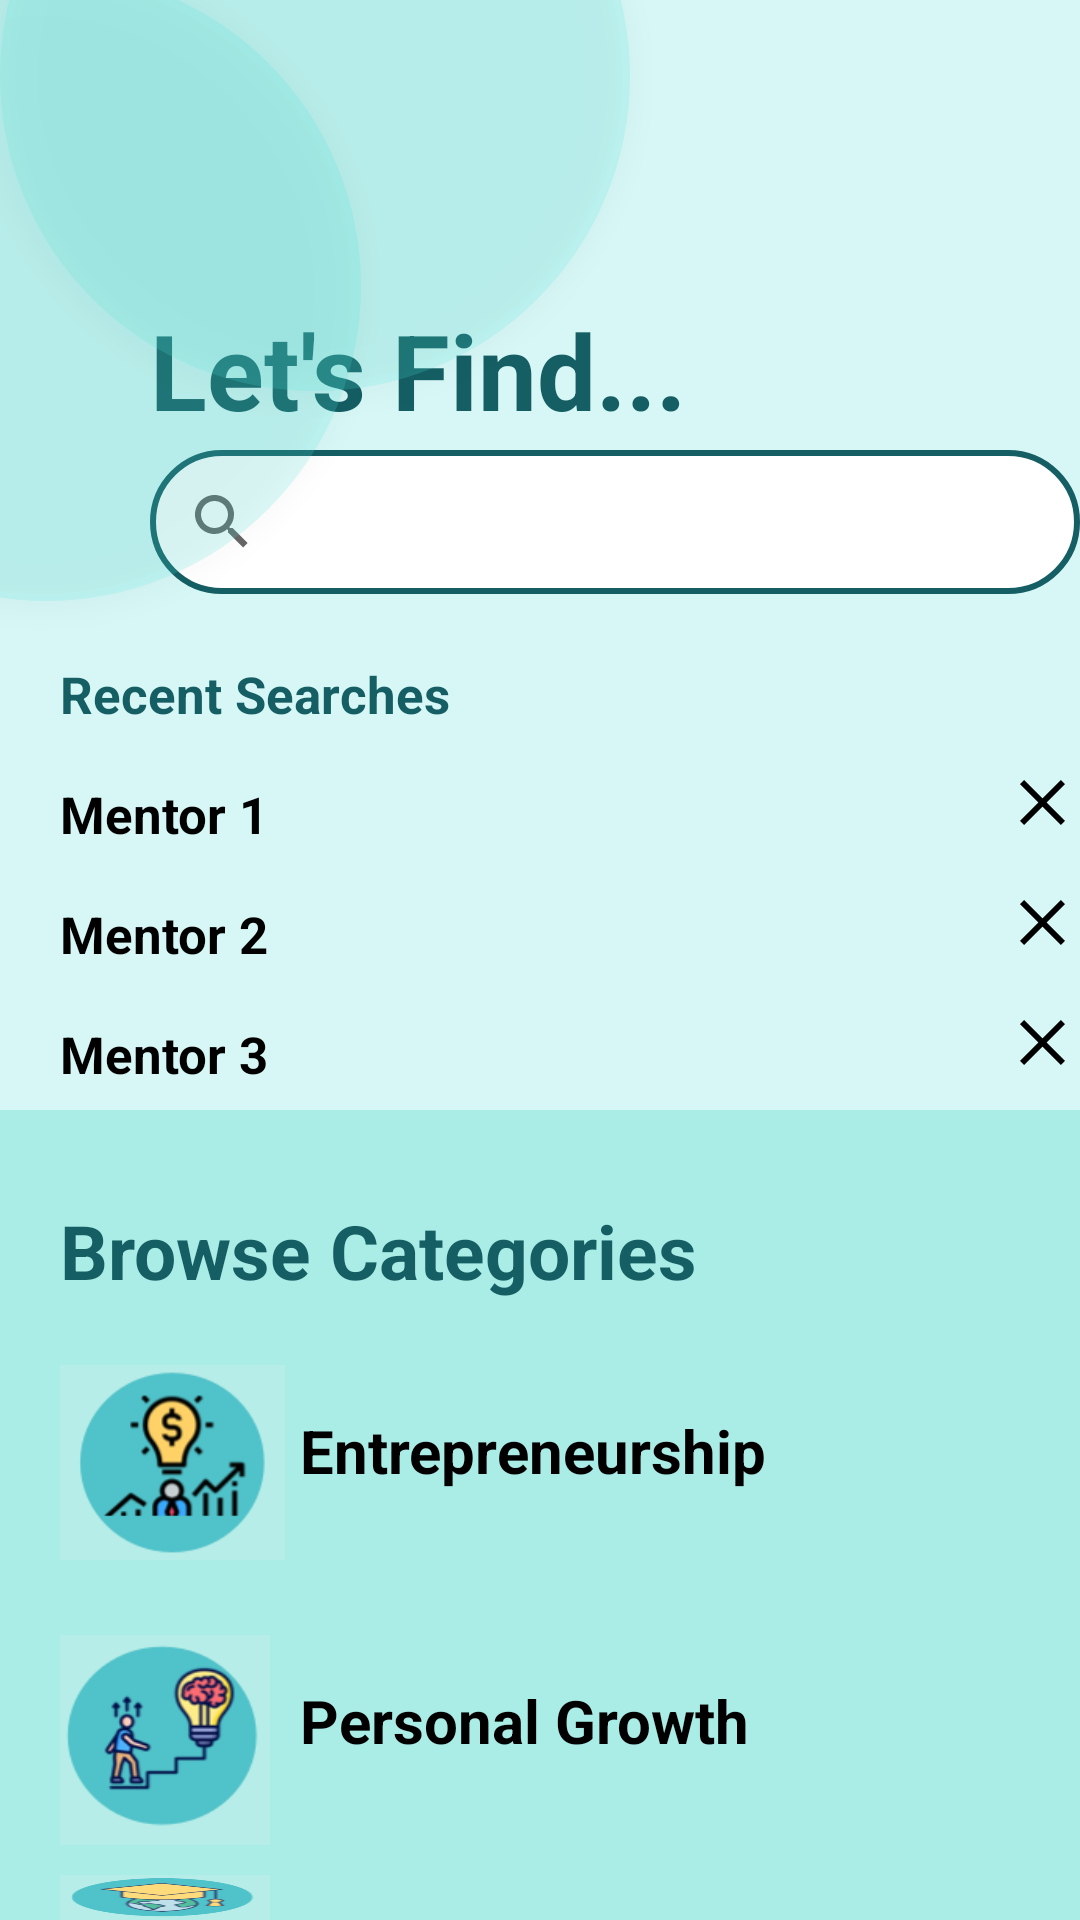

Icon click points for this 1080*1920 phone screenshot, format (x=x, y=y):
cross art: (x=1042, y=802), (x=1042, y=922), (x=1042, y=1042)
edu: (x=162, y=1897)
